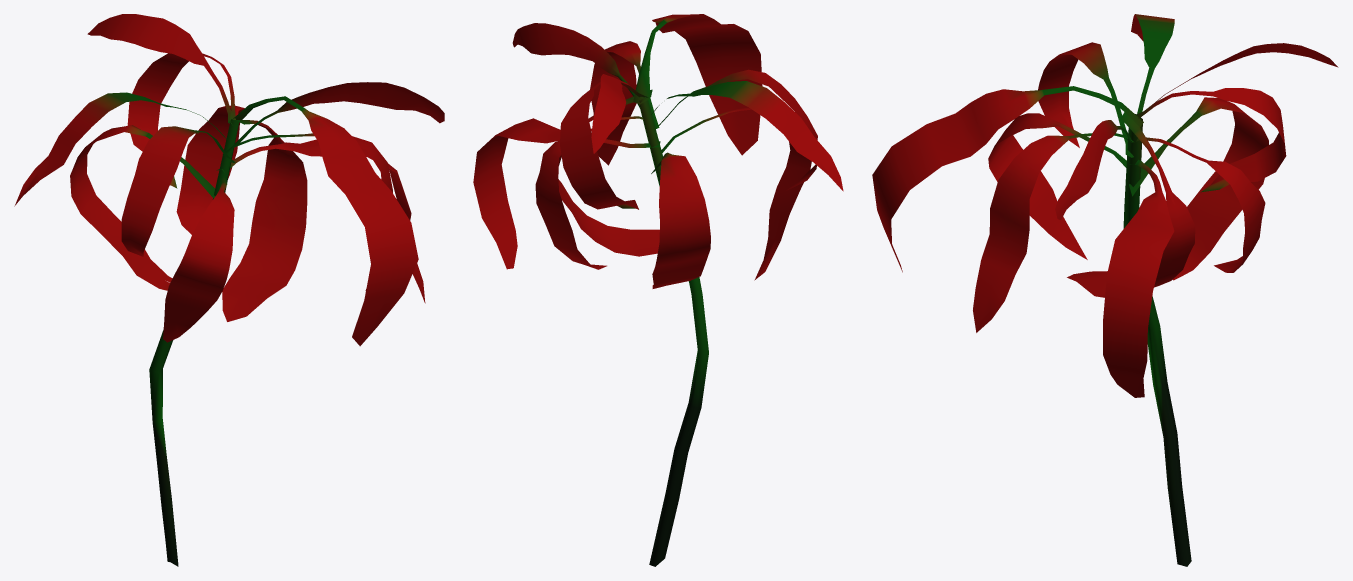
File: Var11_LOD0.fbx
3 views of the same model, side by side, from view 1: azimuth 30°, elevation 25°; view 2: azimuth 150°, elevation 25°; view 3: azimuth 270°, elevation 25° (orthographic). The views are drawn at different scales.
Visible parts, largest first — view 1: _1a19_Var11_LOD0; view 2: _1a19_Var11_LOD0; view 3: _1a19_Var11_LOD0.
Boxes of the visible parts, bbox=[...] form: _1a19_Var11_LOD0: bbox=[14, 14, 444, 566]; _1a19_Var11_LOD0: bbox=[473, 14, 843, 566]; _1a19_Var11_LOD0: bbox=[872, 14, 1338, 566].
Size of the model in its own units: 33 by 42.34 by 33.79.
